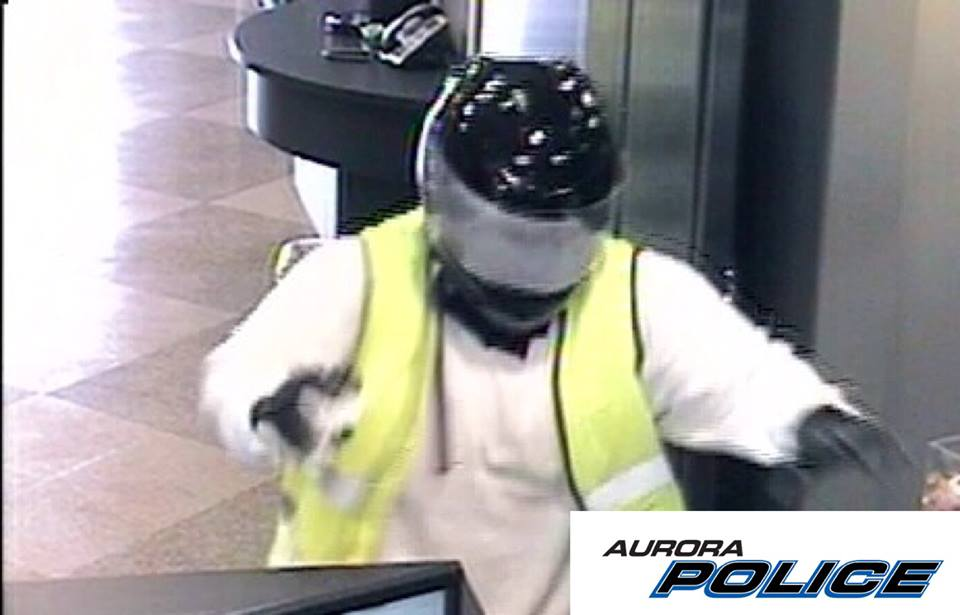helmet: (390, 43, 629, 355)
